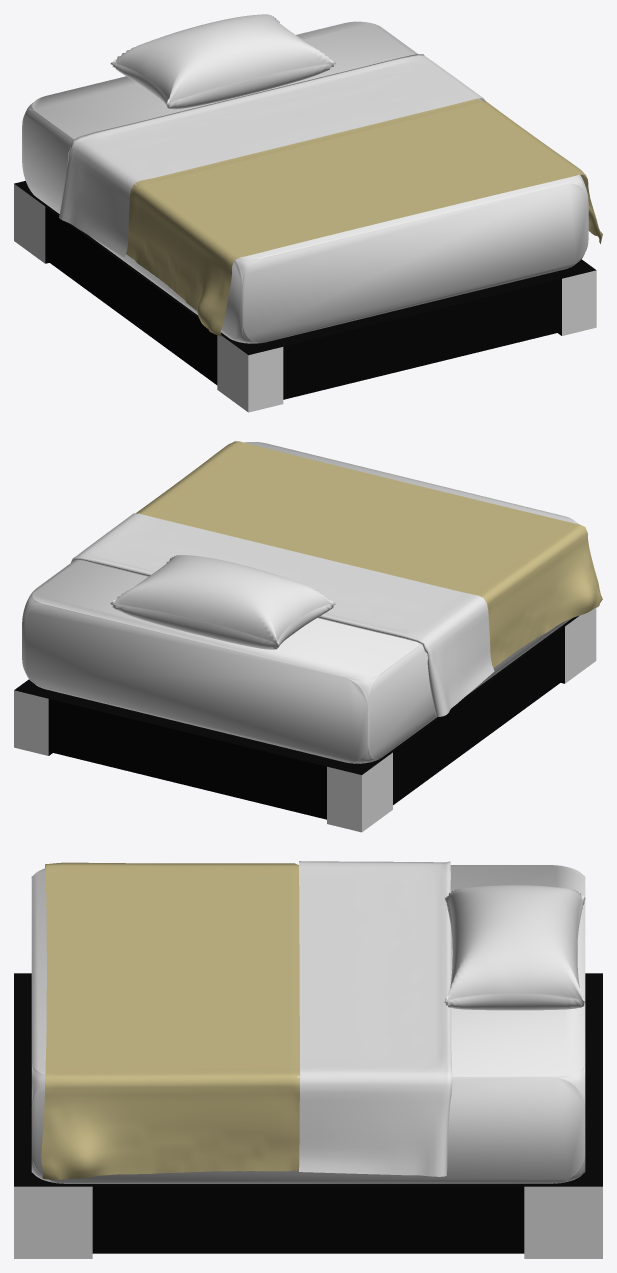
Rendered from BedDesignB.glb.
3 views of the same model, one above another, from view 1: azimuth 30°, elevation 25°; view 2: azimuth 150°, elevation 25°; view 3: azimuth 270°, elevation 25° (orthographic). The views are drawn at different scales.
Parts seen in each view (by area): view 1: Duvet.001, Mattress.001, Cube.001, Pillow.001; view 2: Duvet.001, Mattress.001, Cube.001, Pillow.001; view 3: Duvet.001, Cube.001, Mattress.001, Pillow.001.
Part boxes in pixels (<box>): Duvet.001: <box>59,54,602,336</box>; Mattress.001: <box>22,21,588,343</box>; Cube.001: <box>14,181,596,412</box>; Pillow.001: <box>110,14,335,109</box>; Duvet.001: <box>71,441,602,716</box>; Mattress.001: <box>22,442,578,763</box>; Cube.001: <box>14,608,596,832</box>; Pillow.001: <box>110,555,335,649</box>; Duvet.001: <box>41,861,452,1179</box>; Cube.001: <box>14,973,602,1258</box>; Mattress.001: <box>31,865,585,1183</box>; Pillow.001: <box>444,885,585,1010</box>.
Bounding box in the file's own units: 2.43 × 1.15 × 2.5.
